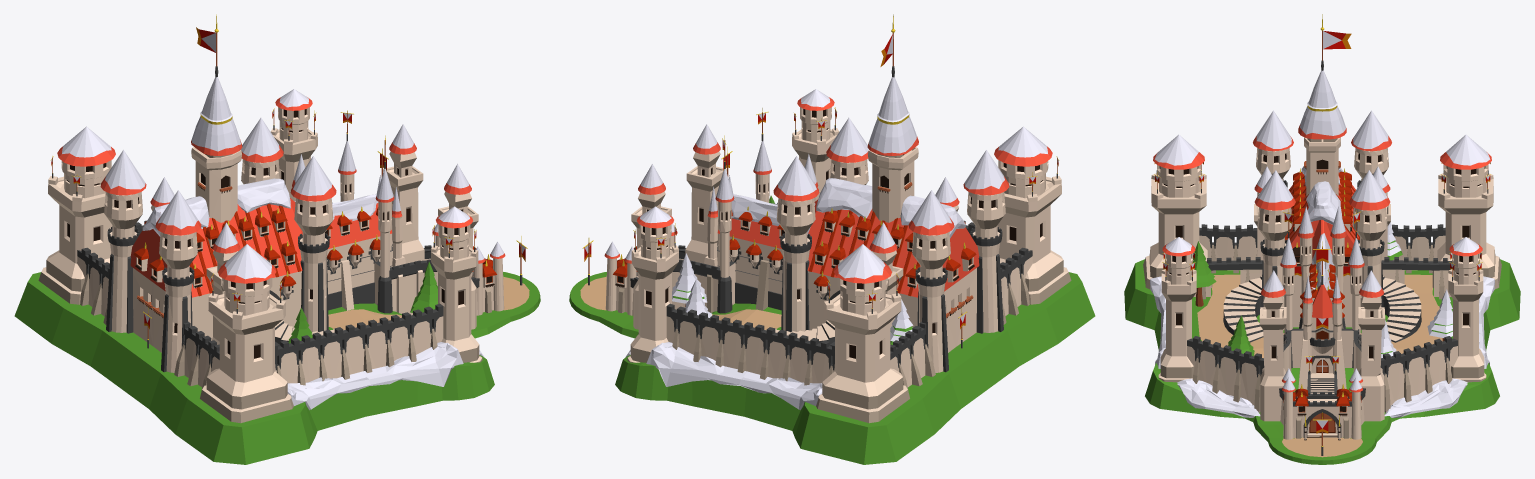
Rendered from Low_poly_medieval_castle.glb.
3 renders of one model, left to right at view 1: azimuth 30°, elevation 25°; view 2: azimuth 150°, elevation 25°; view 3: azimuth 270°, elevation 25°, orthographic. The views are drawn at different scales.
Parts seen in each view (by area): view 1: Castle_Medieval_0 (×2); view 2: Castle_Medieval_0 (×2); view 3: Castle_Medieval_0 (×2).
Boxes of the visible parts, x1,y1,x2,y2 form: Castle_Medieval_0 (×2): (14, 14, 540, 464); Castle_Medieval_0 (×2): (569, 14, 1095, 464); Castle_Medieval_0 (×2): (1124, 14, 1520, 464).
Bounding box in the file's own units: 38 × 30.32 × 34.79.
1 material, 1 textured.
